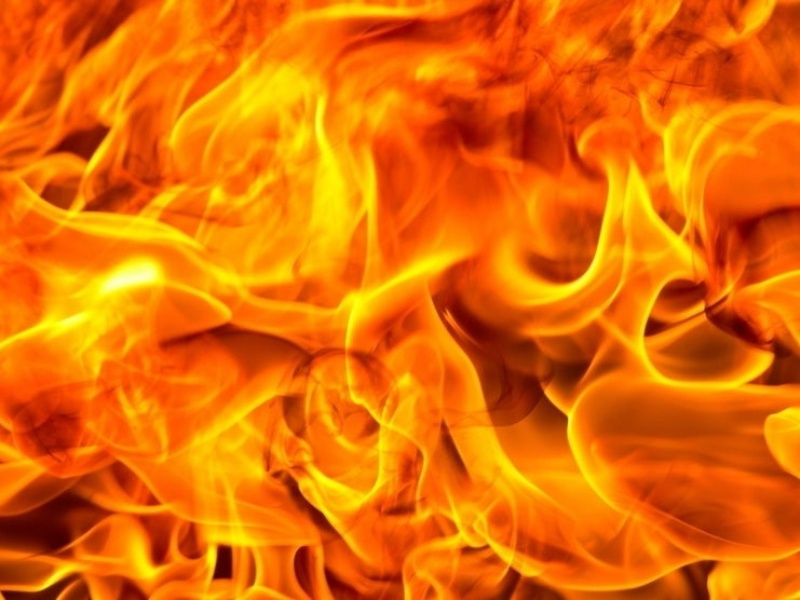fire: (1, 1, 799, 600)
